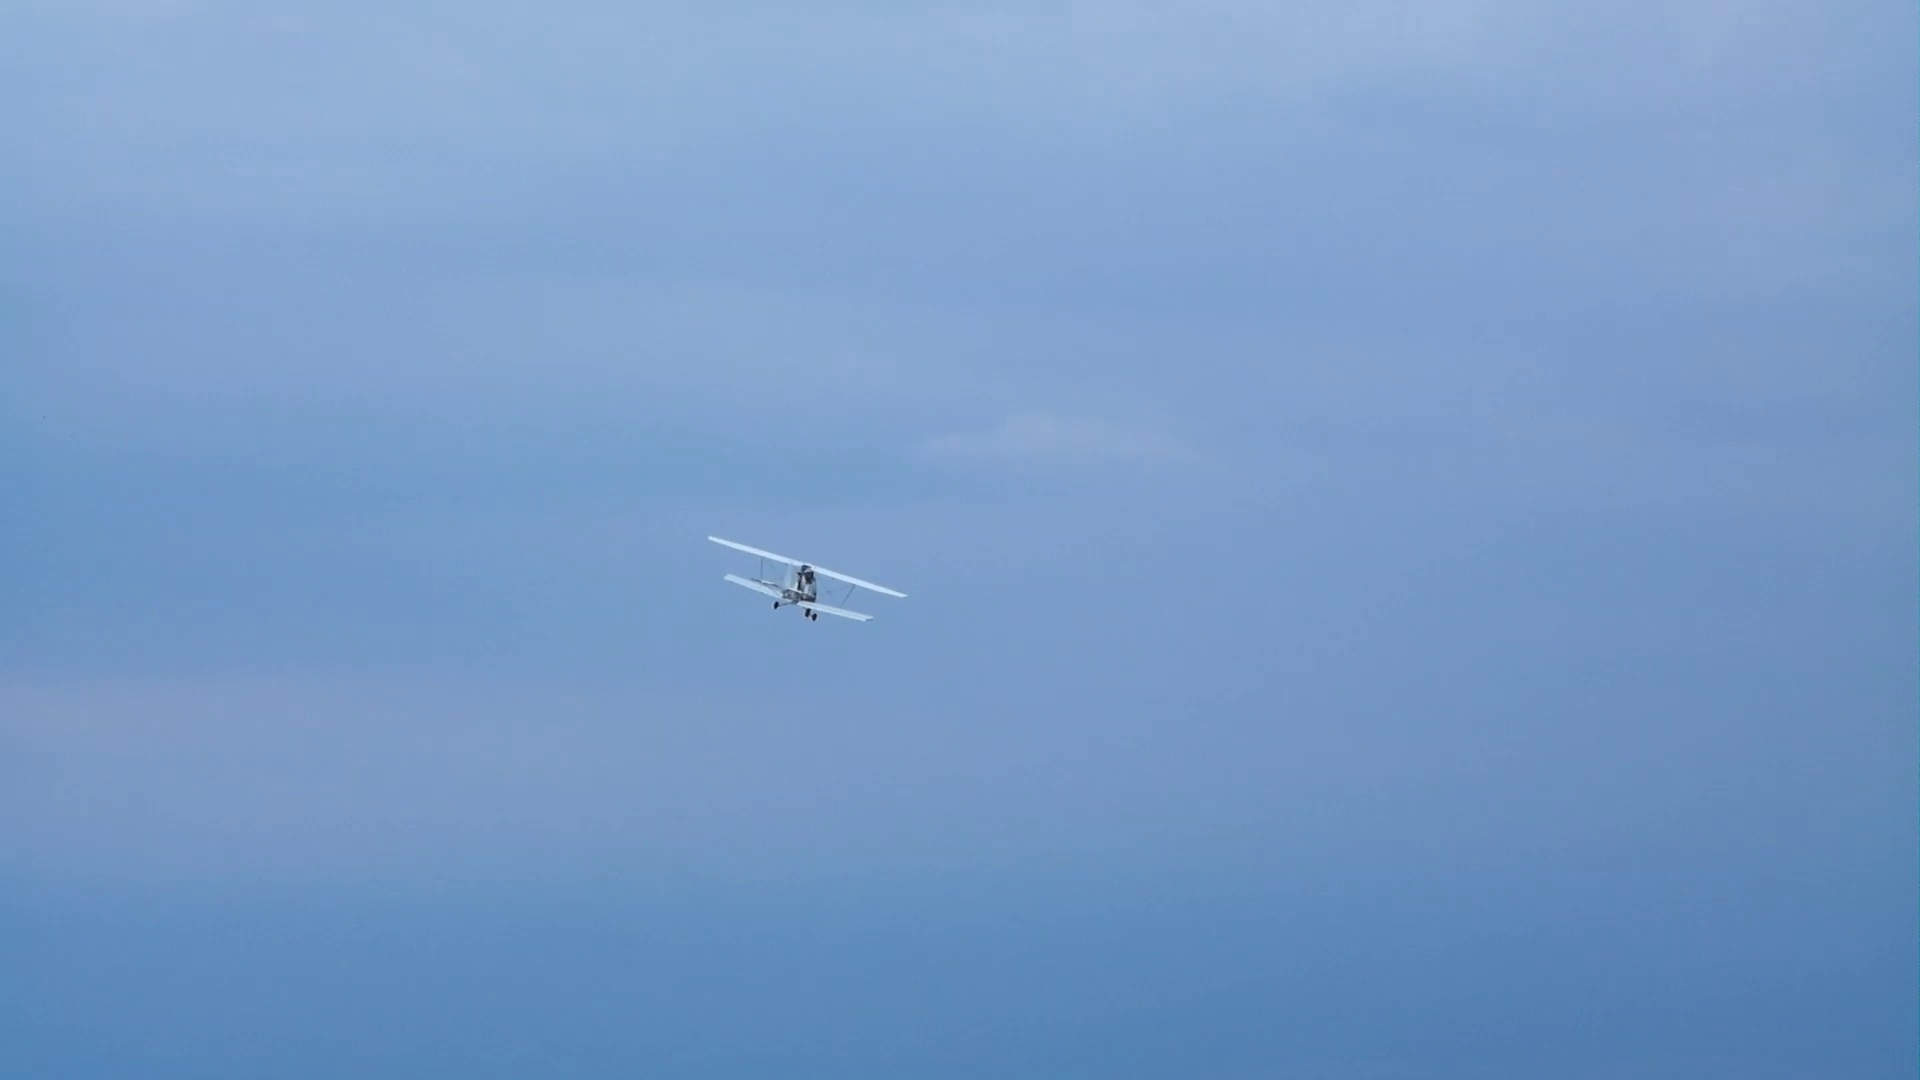plane: (709, 531, 907, 621)
